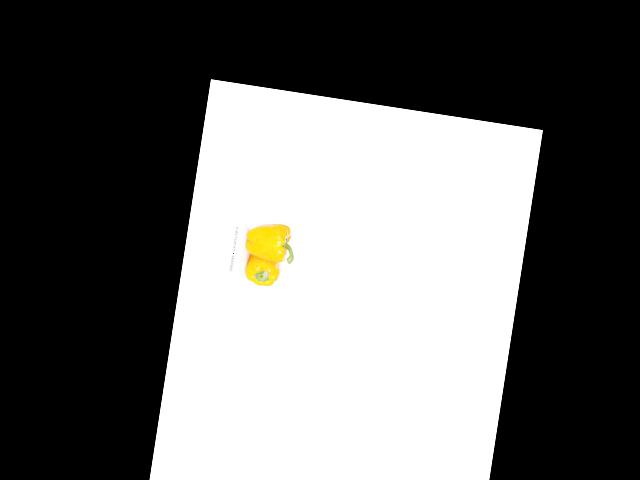bell_pepper: (241, 252, 284, 289)
